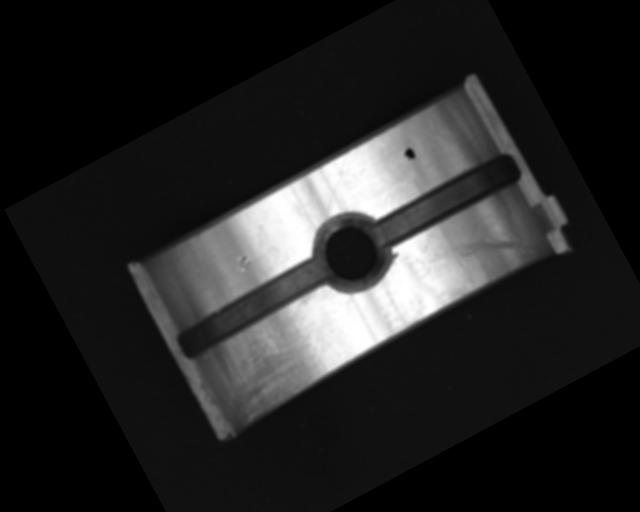blot: (401, 145, 418, 164)
bruise: (231, 251, 255, 275)
gap: (168, 252, 336, 366), (368, 147, 525, 253)
hole: (301, 201, 403, 303)
nick: (414, 202, 535, 303)
scratch: (200, 292, 352, 429)
